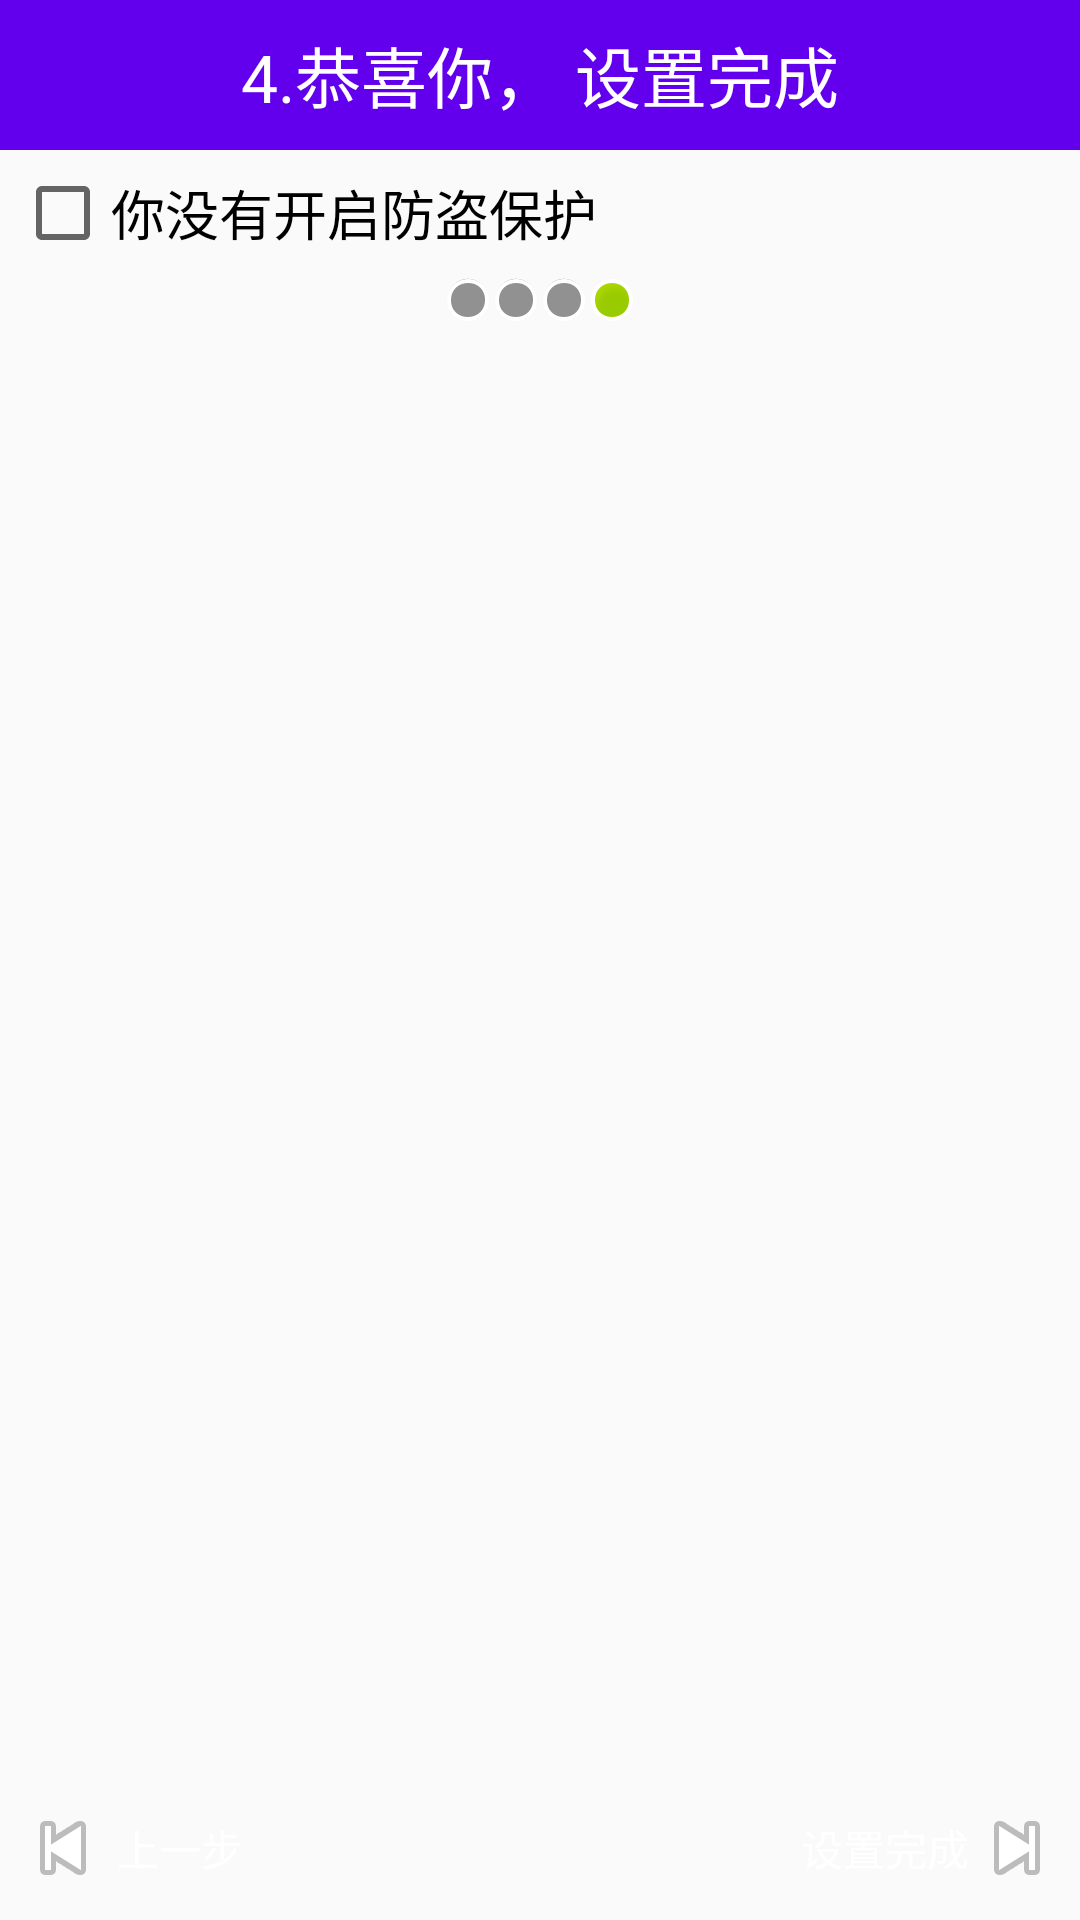

Screen size 1080 × 1920. Icon name, then its box in pixels as (left=x1, top=y1, right=x2, bottom=y2):
presence online: (left=595, top=283, right=629, bottom=317)
